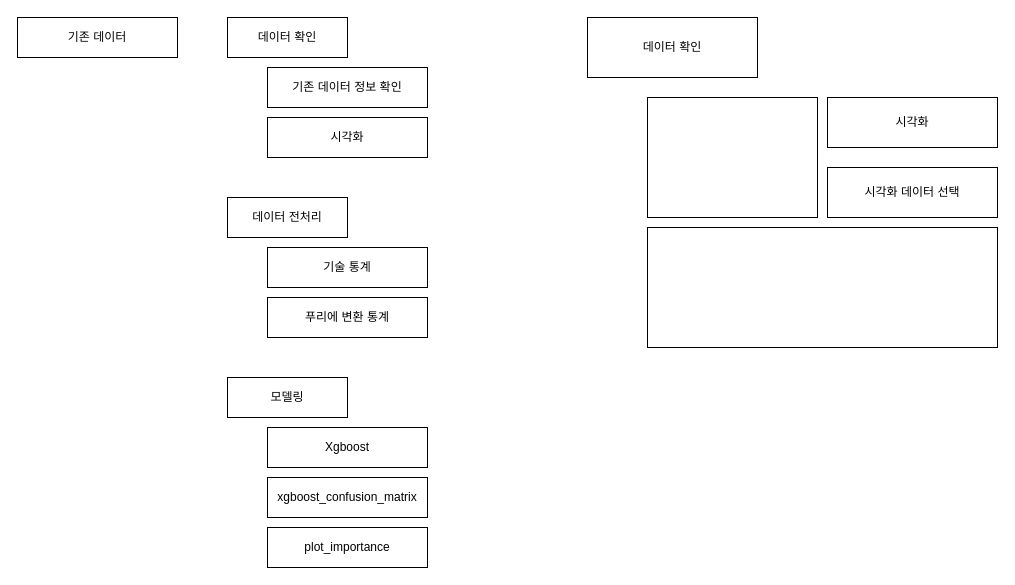
Some shapes in this 1015 by 585 pixel diagram are drawn without their labels. Each missing label, with the centre of its shape:
"데이터" goes at point (822, 287).
"데이터 선택" goes at point (732, 157).
